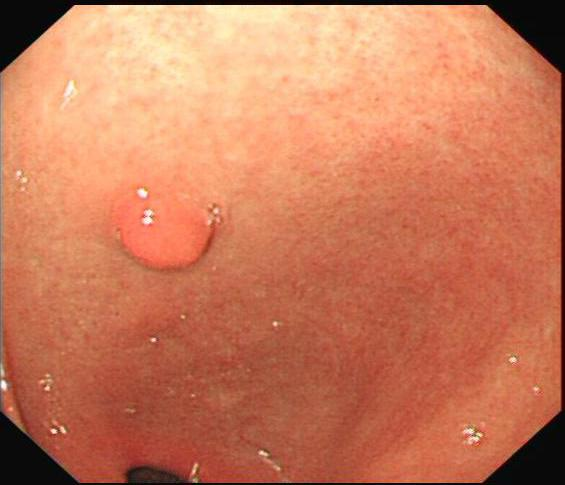Polyp: (103, 195, 220, 276)
